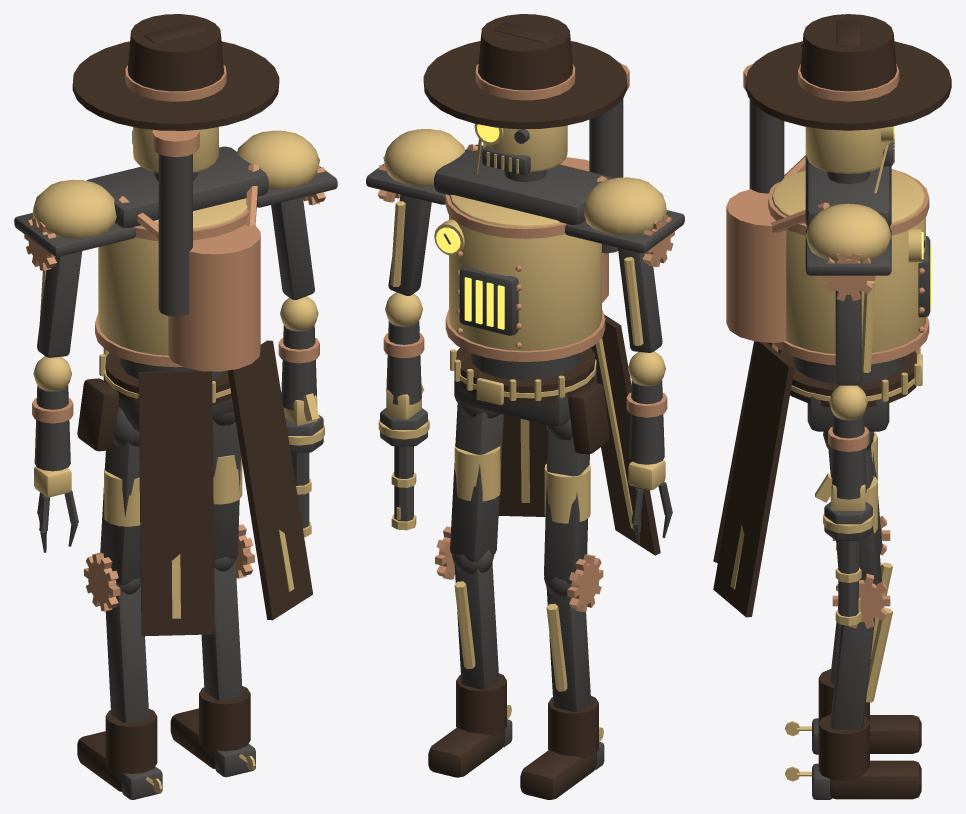
Rendered from gunslinger_automaton.glb.
3 renders of one model, left to right at view 1: azimuth 30°, elevation 25°; view 2: azimuth 150°, elevation 25°; view 3: azimuth 270°, elevation 25°, orthographic.
Parts seen in each view (by area): view 1: Body, LegL, LegR, Forearms; view 2: Body, LegR, LegL, Forearms; view 3: Body, LegR, Forearms, LegL.
Part boxes in pixels (bbox=[...]): Body: bbox=[14, 14, 337, 636]; LegL: bbox=[77, 407, 162, 799]; LegR: bbox=[170, 411, 255, 777]; Forearms: bbox=[32, 296, 324, 552]; Body: bbox=[366, 14, 684, 555]; LegR: bbox=[428, 402, 512, 777]; LegL: bbox=[520, 418, 604, 799]; Forearms: bbox=[378, 292, 672, 544]; Body: bbox=[713, 14, 951, 617]; LegR: bbox=[785, 428, 921, 799]; Forearms: bbox=[815, 385, 874, 625]; LegL: bbox=[785, 432, 921, 754].
Bounding box in the file's own units: 0.7713 × 1.9 × 0.5551.
